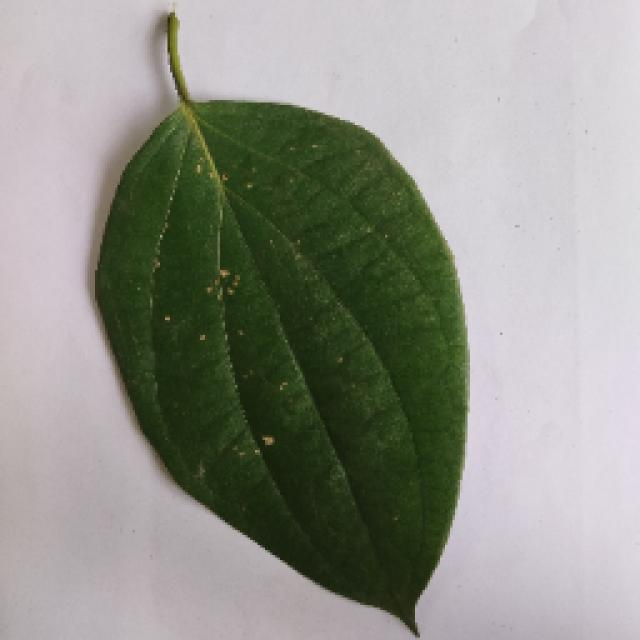pollu-disease: (93, 17, 465, 635)
